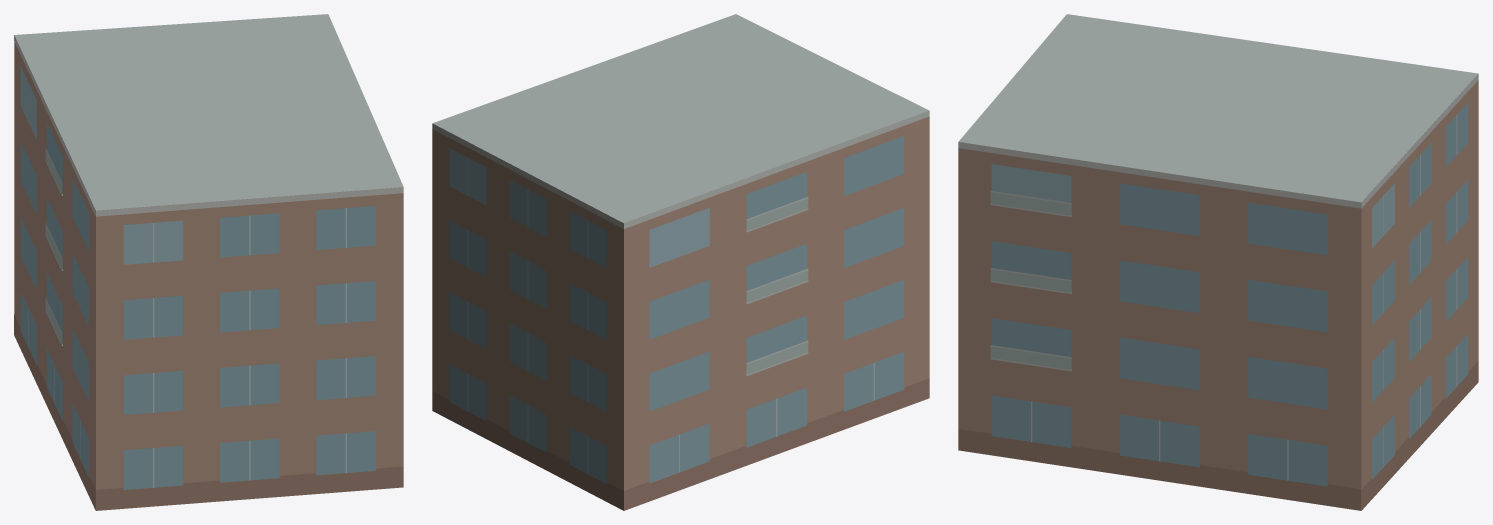
File: survey-upis-32852653.glb
3 renders of one model, left to right at view 1: azimuth 30°, elevation 25°; view 2: azimuth 150°, elevation 25°; view 3: azimuth 270°, elevation 25°, orthographic. The views are drawn at different scales.
Visible parts, largest first — view 1: survey-upis-32852653.tmp; view 2: survey-upis-32852653.tmp; view 3: survey-upis-32852653.tmp.
Boxes of the visible parts, <box> form: survey-upis-32852653.tmp: <box>14,14,403,510</box>; survey-upis-32852653.tmp: <box>432,14,929,510</box>; survey-upis-32852653.tmp: <box>958,14,1478,510</box>.
Size of the model in its own units: 15.99 by 12.2 by 18.66.
